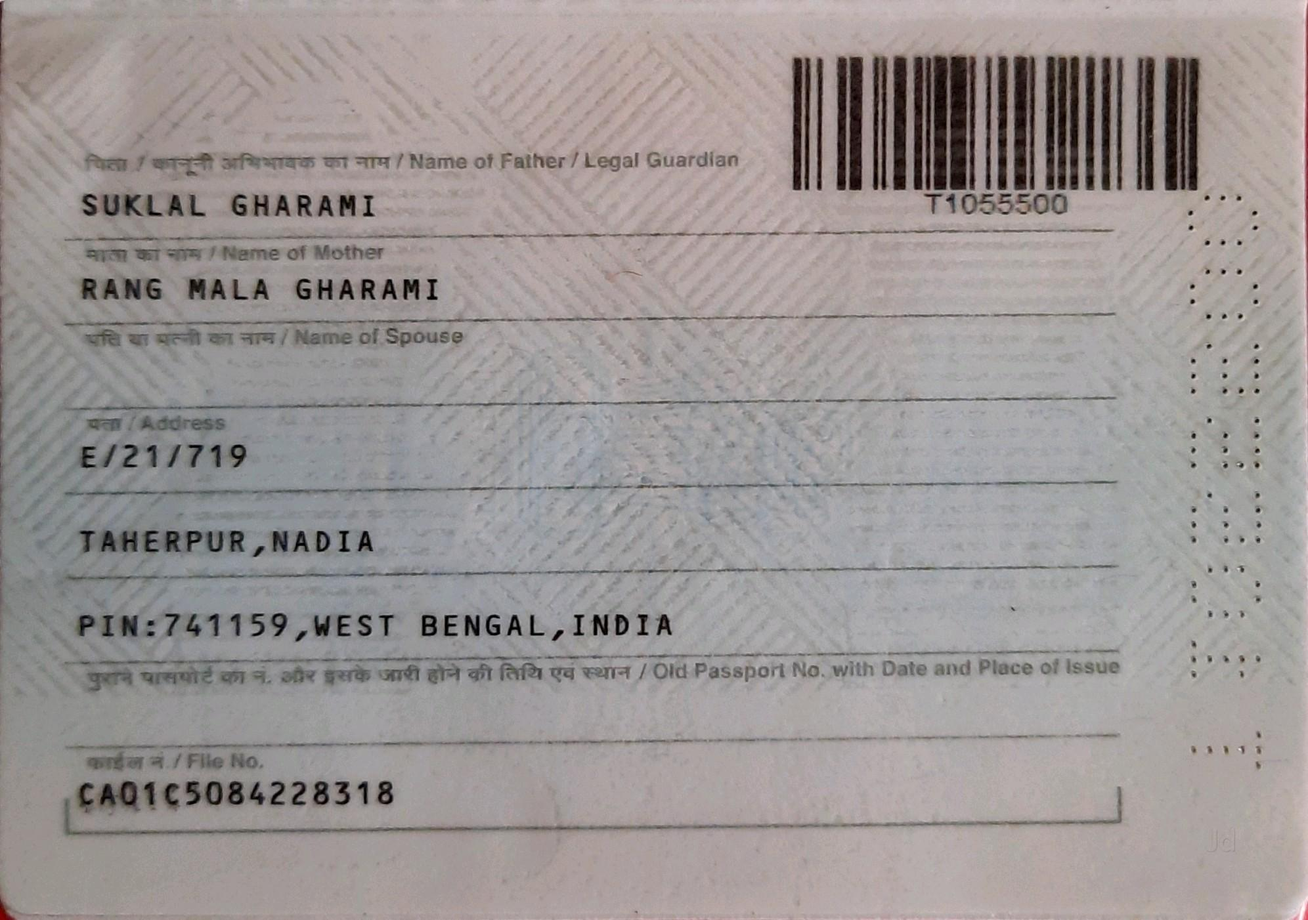File_no: (62, 774, 424, 832)
address: (69, 433, 721, 643)
father_name: (66, 177, 410, 231)
mother_name: (74, 261, 461, 320)
passport_no: (916, 182, 1088, 225)
